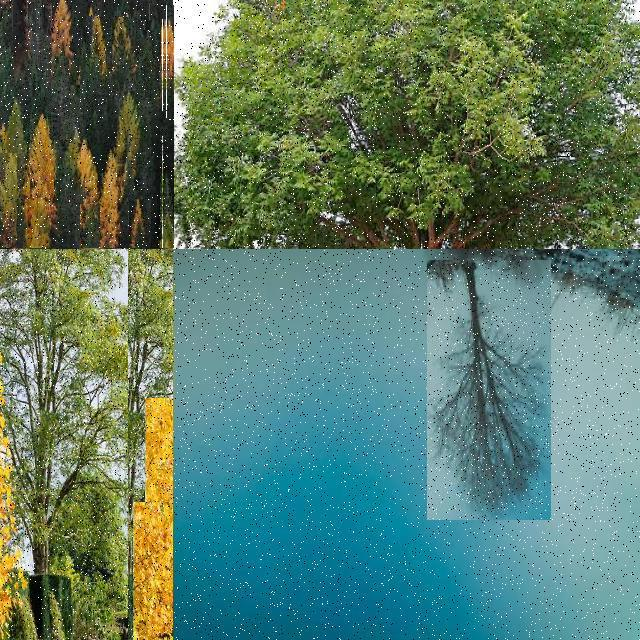tree: (172, 0, 640, 248), (39, 248, 173, 640), (0, 248, 128, 640), (427, 260, 551, 520), (133, 502, 173, 640), (145, 398, 173, 530), (53, 147, 83, 249), (81, 16, 107, 120), (98, 153, 122, 249), (28, 3, 52, 97), (30, 114, 54, 198), (16, 195, 52, 249), (115, 92, 138, 176), (112, 17, 136, 91), (52, 0, 72, 88), (136, 115, 156, 191), (0, 153, 17, 242), (51, 56, 69, 140), (159, 143, 173, 250), (162, 136, 174, 248), (4, 101, 24, 163), (160, 126, 172, 222), (0, 0, 24, 48), (162, 19, 174, 111), (129, 199, 151, 249), (138, 30, 154, 98), (162, 62, 174, 150), (163, 118, 173, 214), (67, 85, 83, 143), (80, 204, 100, 248), (163, 140, 173, 226), (157, 0, 173, 52), (161, 22, 173, 90), (165, 43, 173, 141), (164, 157, 172, 247), (166, 38, 174, 110), (166, 177, 174, 247), (166, 5, 174, 65), (114, 0, 130, 28), (166, 105, 174, 159), (137, 0, 157, 20), (164, 218, 172, 250), (164, 0, 172, 28)
